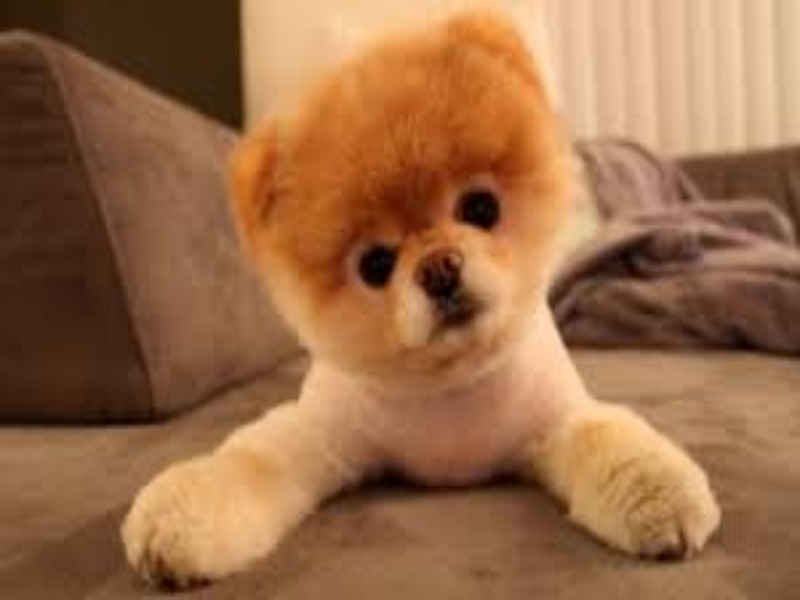dog: (111, 16, 737, 587)
